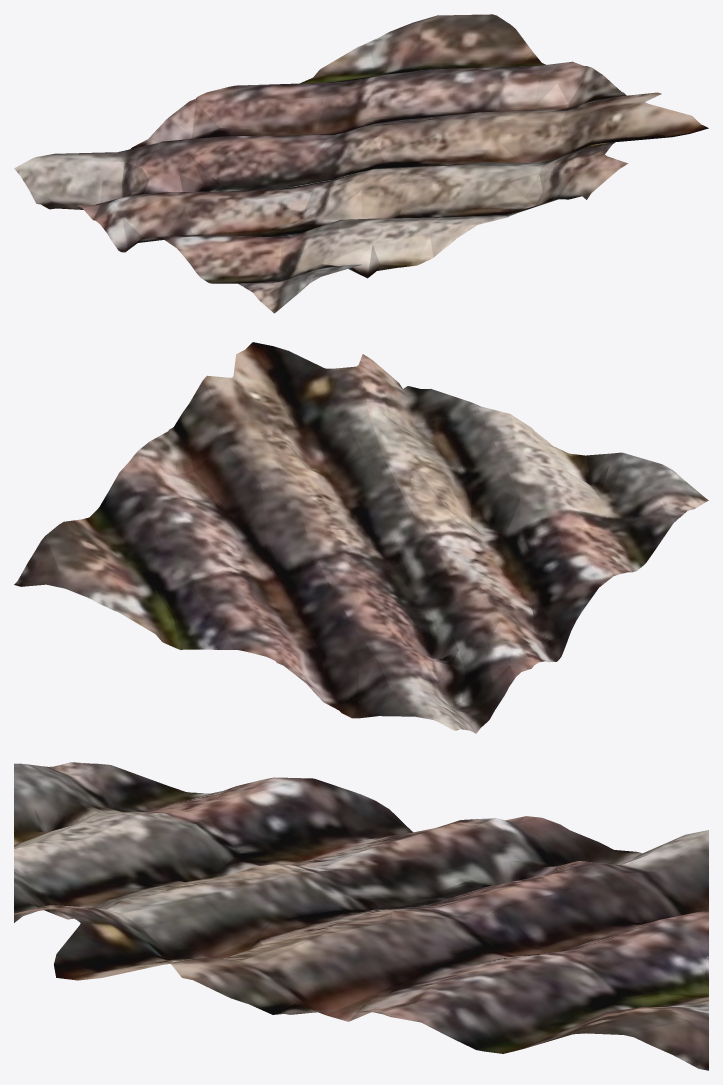
The picture shows the model from 3 angles, top to bottom: view 1: azimuth 30°, elevation 25°; view 2: azimuth 150°, elevation 25°; view 3: azimuth 270°, elevation 25°; orthographic projection. The views are drawn at different scales.
Size of the model in its own units: 0.8373 by 0.2275 by 0.8374.
Materials: 3 (3 with a texture image).
